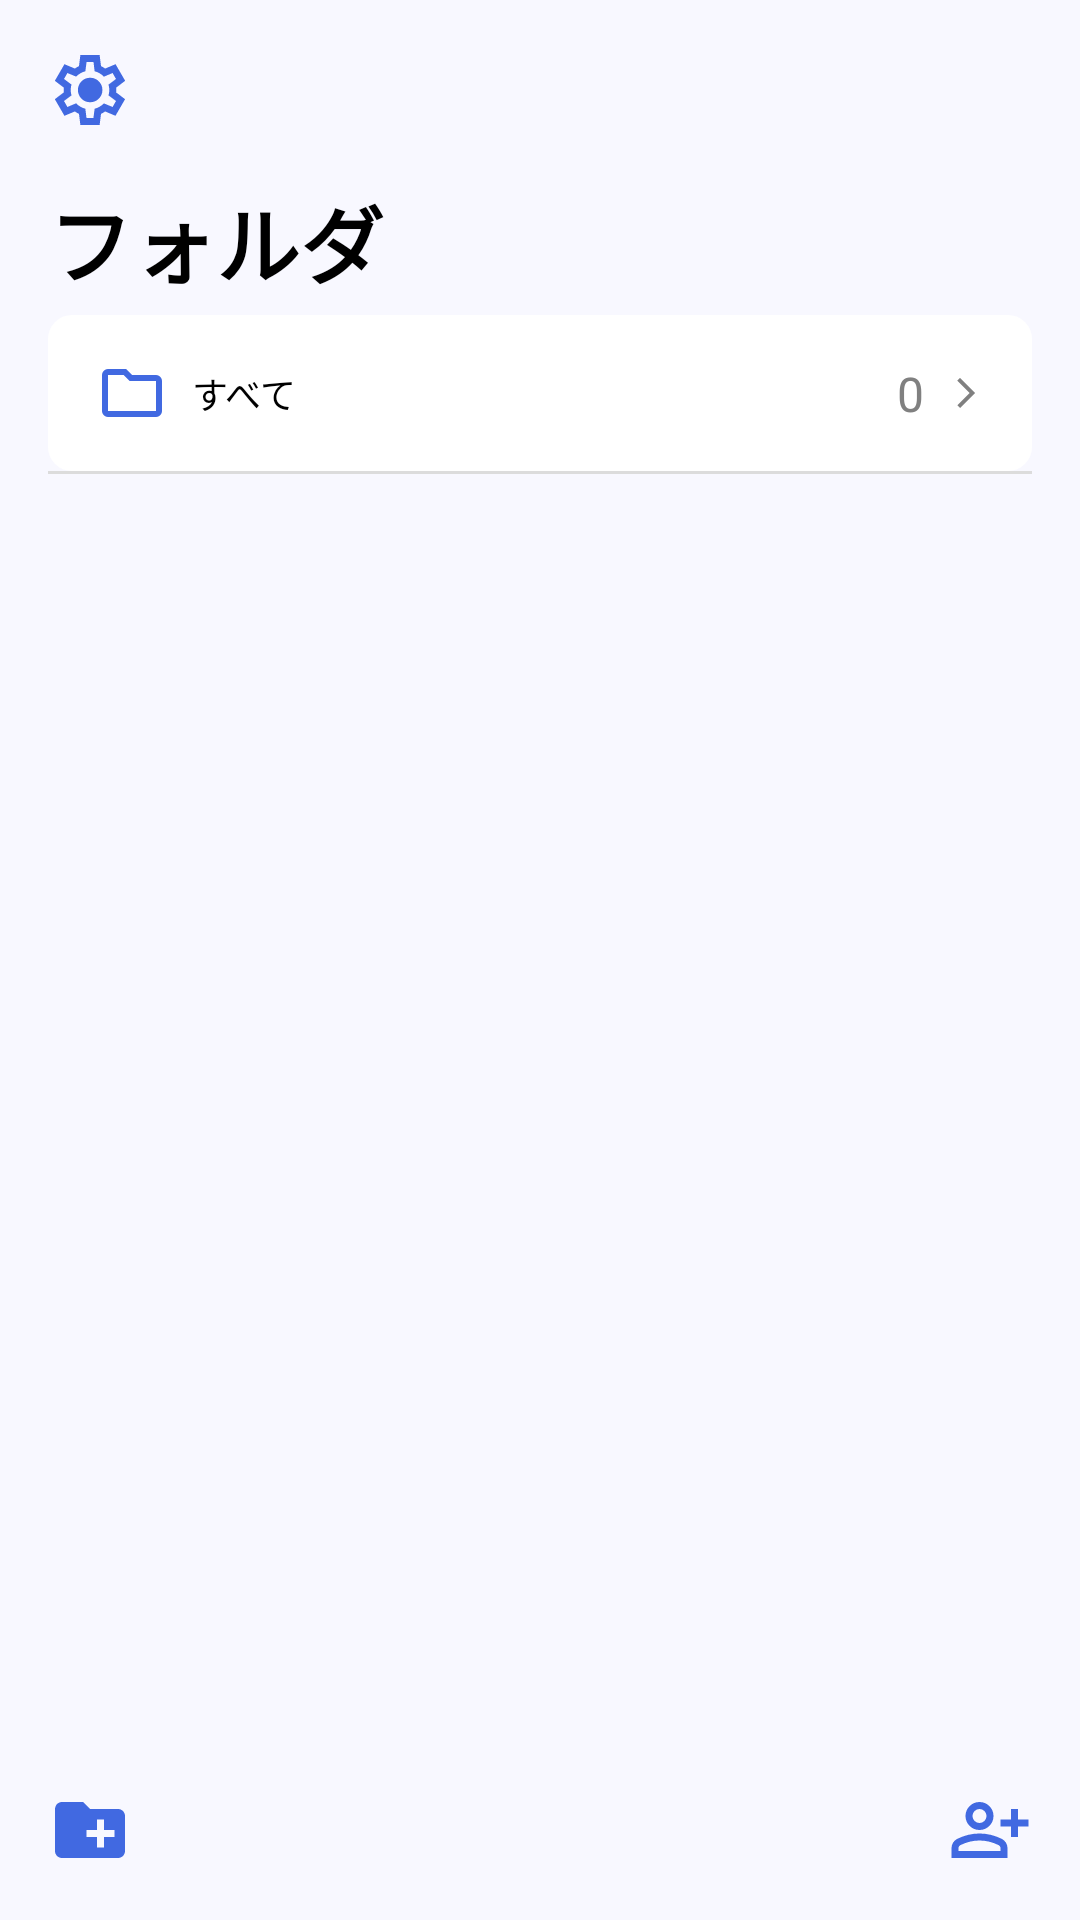

Named icons in this screenshot (1080x1920) and their bounding boxes, (x1, y1, x2, y2):
all folder ver: (102, 369, 162, 417)
arrow forward ver: (957, 378, 975, 408)
create folder ver: (55, 1802, 125, 1858)
person add ver: (951, 1802, 1029, 1858)
settings ver: (55, 55, 125, 125)
